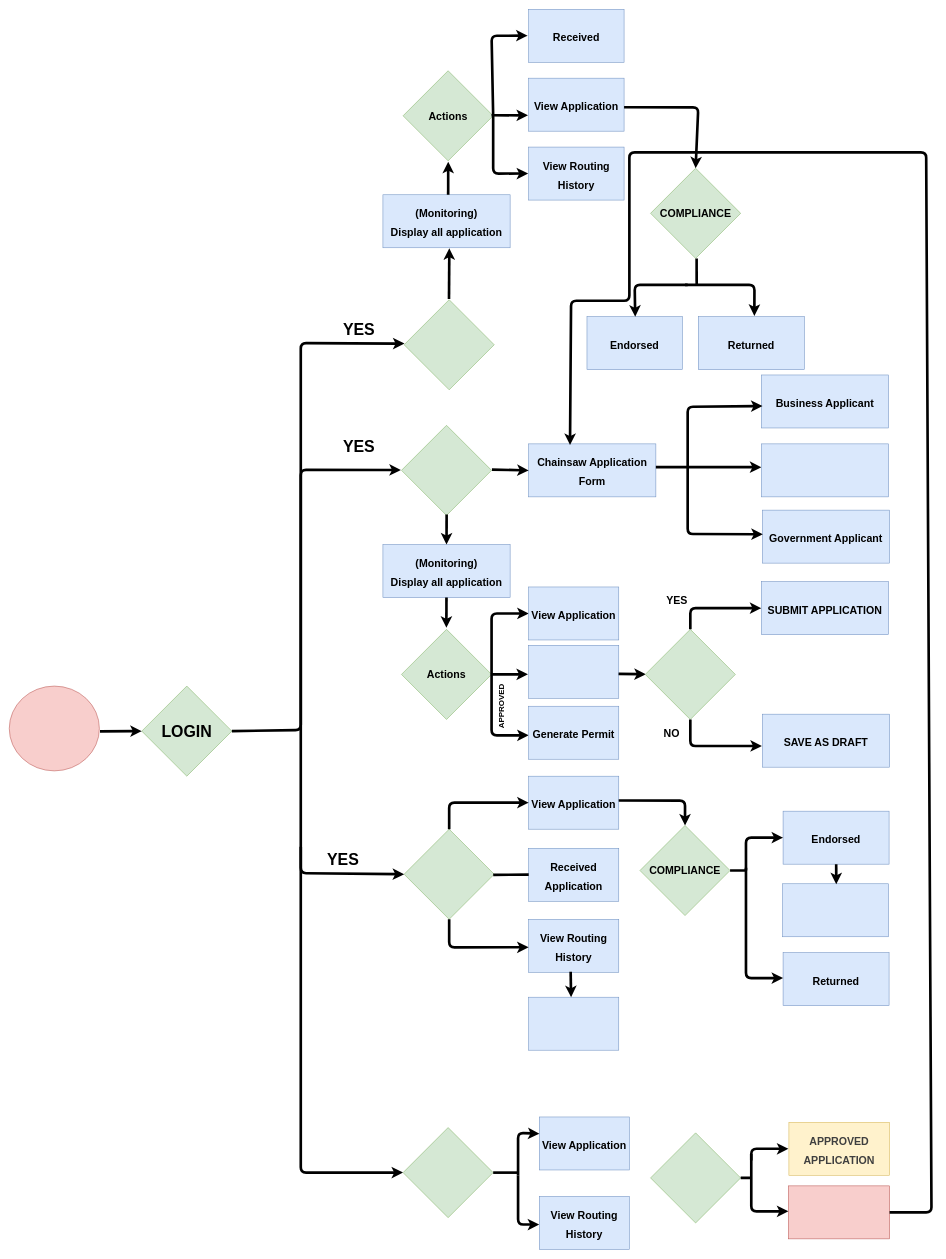
Image size: 946x1259. Some labels were removed from this diagram. The shapes that lost their labels are listed below. From the top down, each one's box as (x1, y1, x2, y2) in pixels, then its label:
(404, 299, 494, 390): IMPLEMENTING PENRO ACCOUNT
(401, 425, 492, 515): CENRO ACCOUNT
(761, 443, 889, 497): Citizens Applicant
(528, 645, 619, 698): Edit/Modify Application
(645, 629, 735, 719): IF != FOR REVIEW/ EVALUTION
(9, 686, 99, 771): START
(404, 829, 494, 919): ARDTS ACCOINT
(782, 883, 889, 937): Send Email Notification
(528, 997, 619, 1050): Display all application
(403, 1127, 493, 1218): RED Account
(650, 1132, 741, 1223): Generate Permit No
(788, 1185, 890, 1239): DISAPROVED APPLICATION
